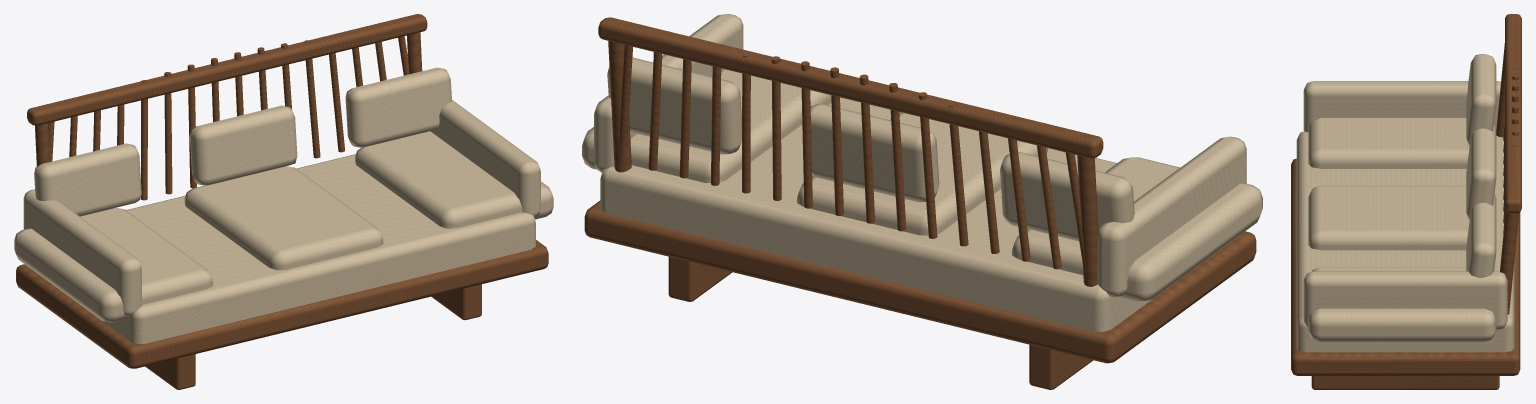
File: sofa_engawa-bc3c403e2350.glb
The picture shows the model from 3 angles, left to right: view 1: azimuth 30°, elevation 25°; view 2: azimuth 150°, elevation 25°; view 3: azimuth 270°, elevation 25°; orthographic projection. The views are drawn at different scales.
Visible parts, largest first — view 1: surface_linen, surface_walnut; view 2: surface_linen, surface_walnut; view 3: surface_linen, surface_walnut.
Boxes of the visible parts, <box> form: surface_linen: <box>14,67,553,343</box>; surface_walnut: <box>16,14,548,389</box>; surface_linen: <box>582,14,1262,331</box>; surface_walnut: <box>584,17,1256,389</box>; surface_linen: <box>1296,54,1514,352</box>; surface_walnut: <box>1291,14,1521,389</box>.
Size of the model in its own units: 1.83 by 0.8574 by 0.8259.
Materials: 2 (2 with a texture image).
